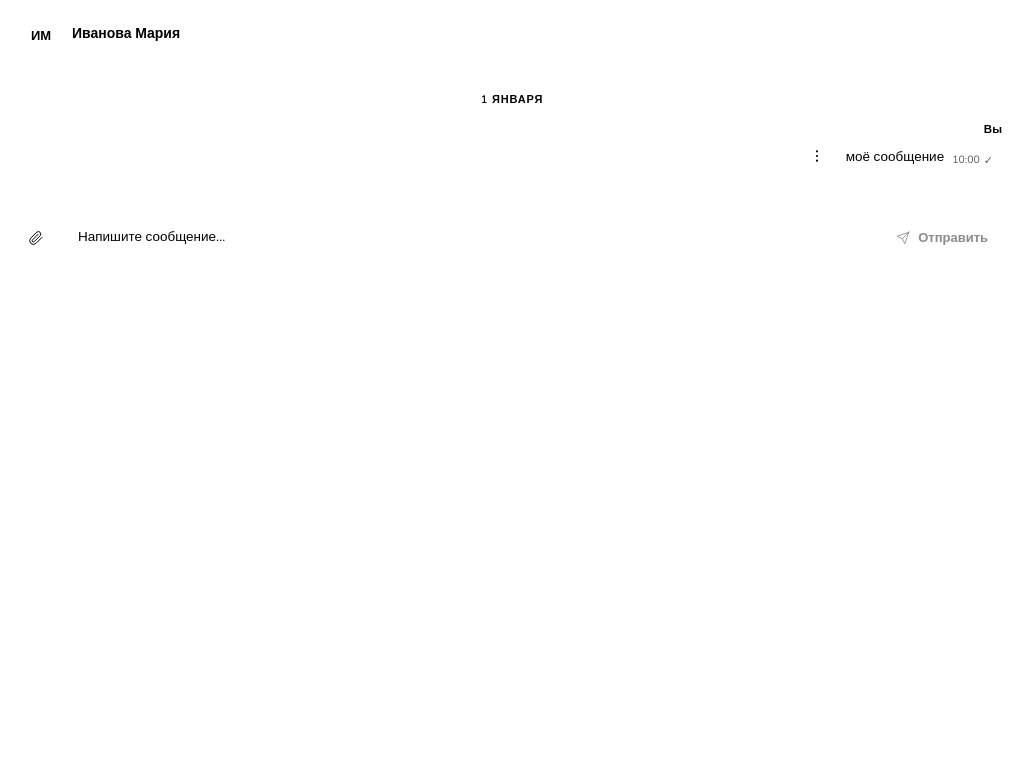
Test: menu Удалить opens the confirmation dialog
This screenshot has width=1024, height=768.
Click the button named "Действия с сообщением" at point(817, 156), box left=804, top=143, right=830, bottom=169
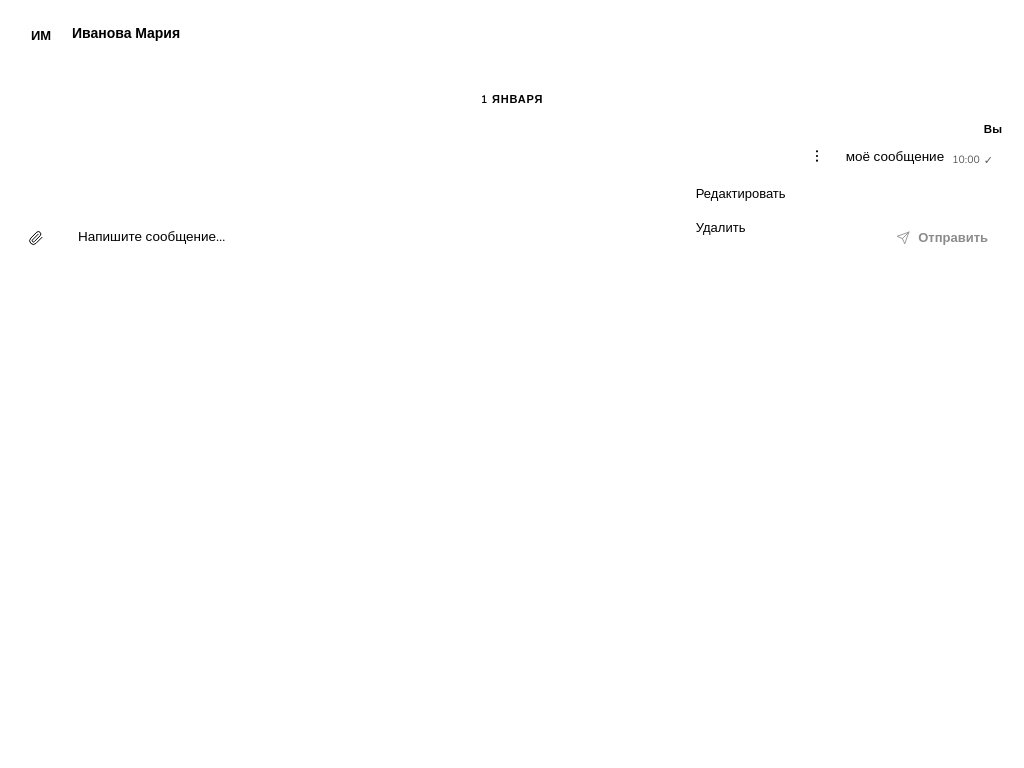
Click the menu item "Удалить" at point(755, 228), box left=684, top=211, right=826, bottom=245
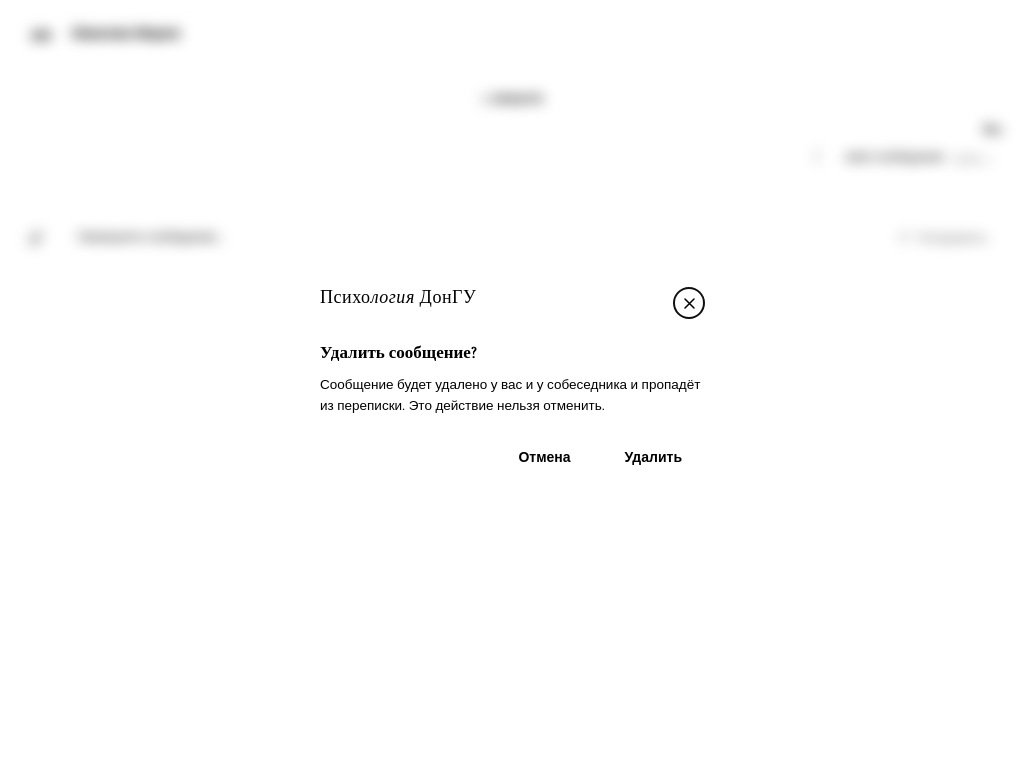
Now the dialog is shown, box left=292, top=262, right=732, bottom=506
Now the heading "Удалить сообщение?" is shown, box left=320, top=342, right=476, bottom=363
